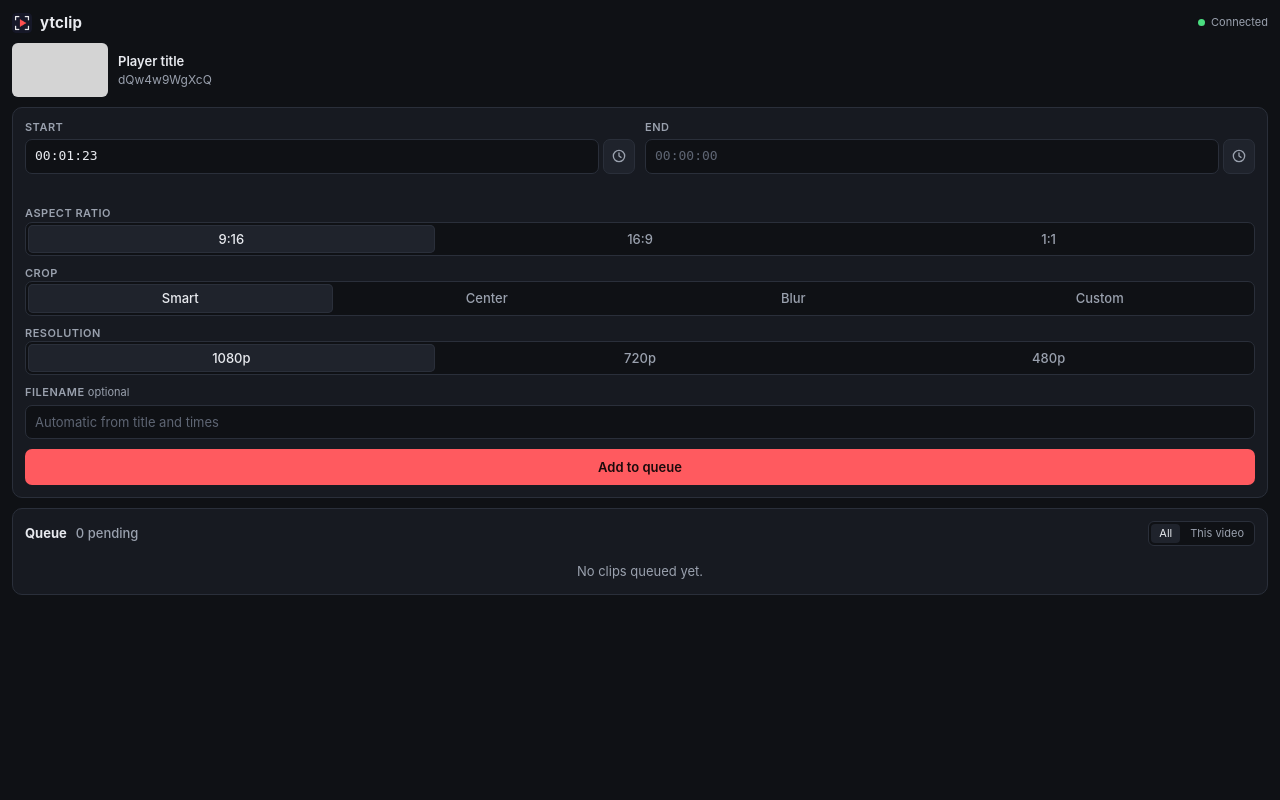
App › shows validation errors and does not send invalid clips
Type "00:00:10" into the field labelled "End".
click(932, 156); type("00:00:10")  # box left=645, top=139, right=1219, bottom=174
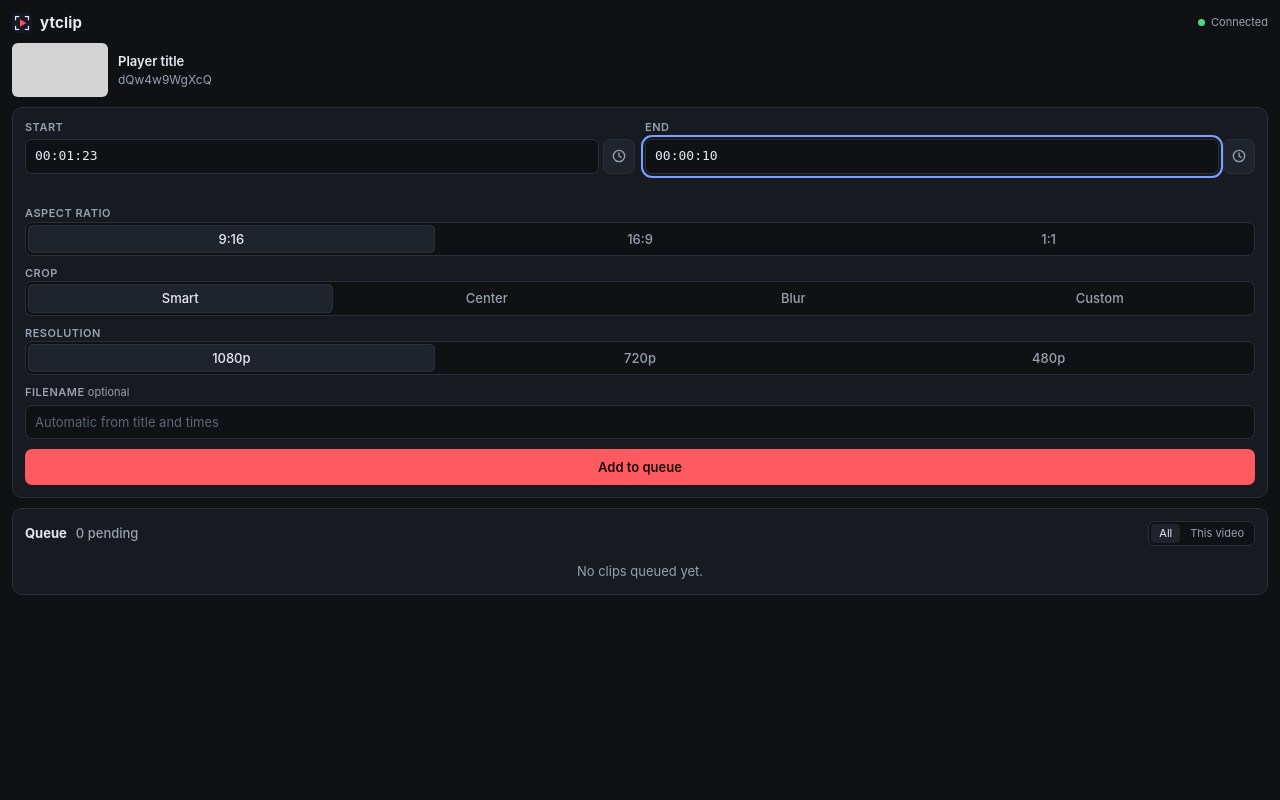
Click the button "Add to queue".
click(640, 467)  # box left=25, top=449, right=1255, bottom=485
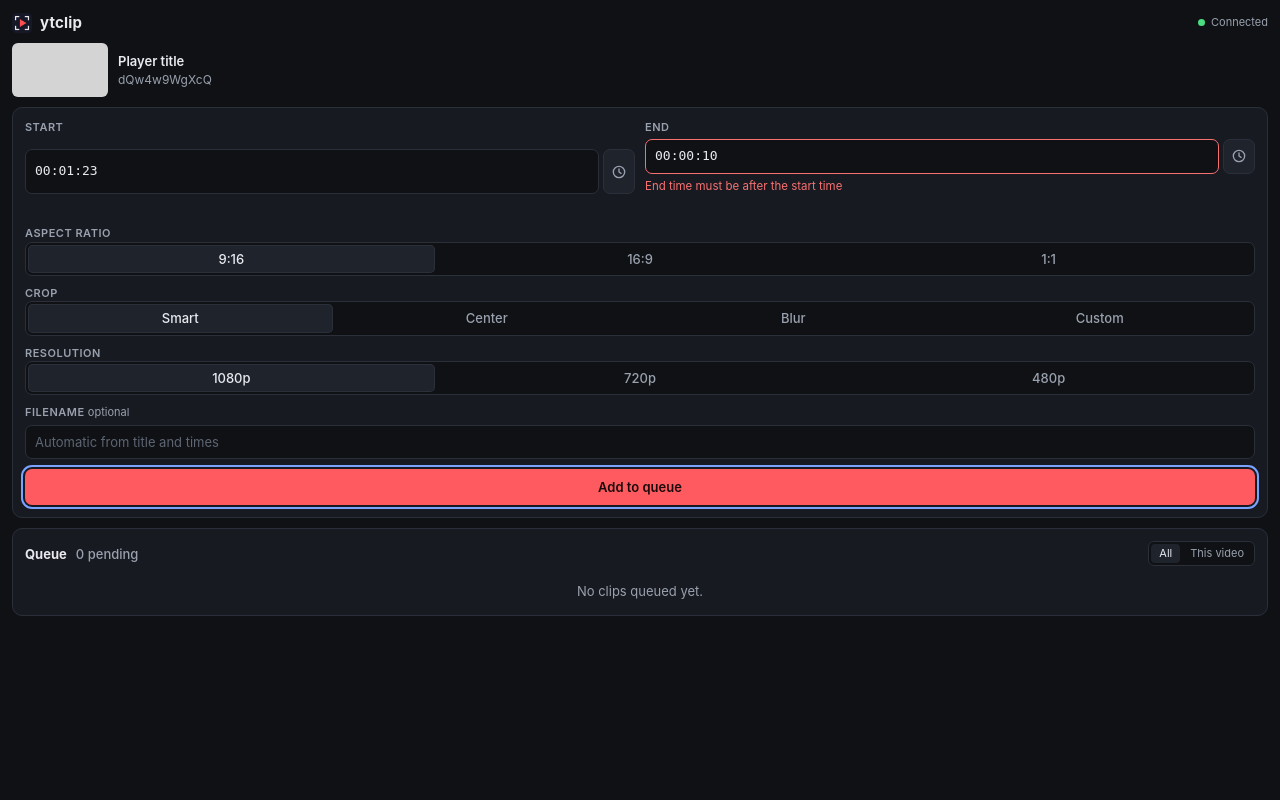
Check: the text "End time must be after the start time" is shown, box left=645, top=179, right=842, bottom=193
